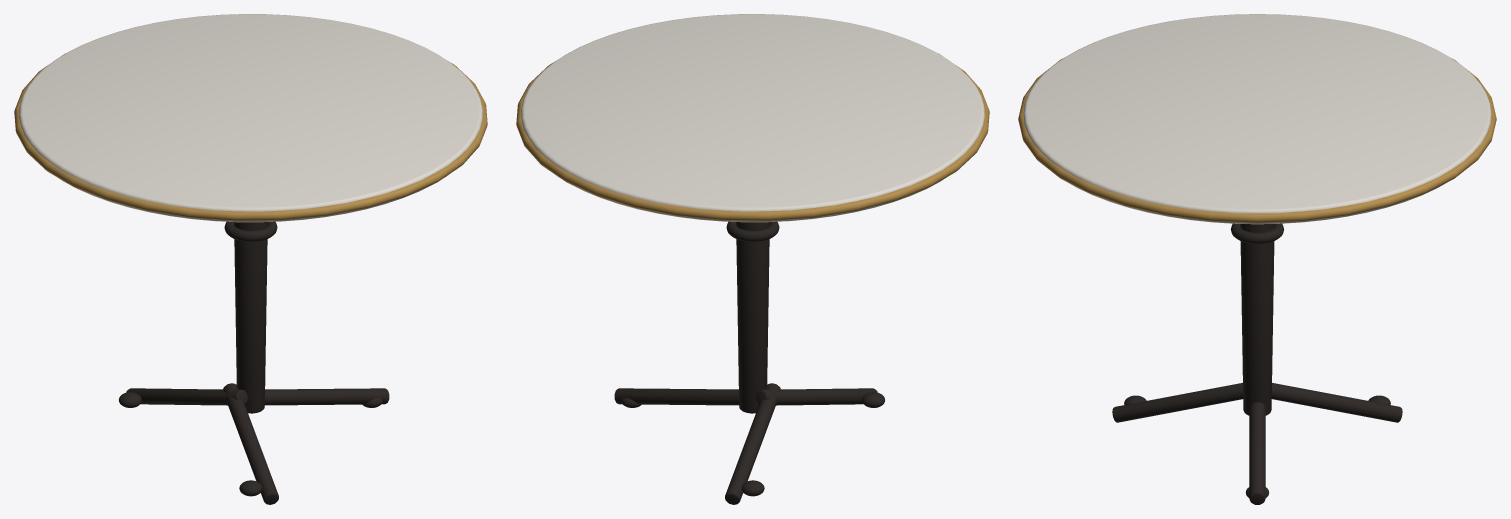
File: table.glb
3 renders of one model, left to right at view 1: azimuth 30°, elevation 25°; view 2: azimuth 150°, elevation 25°; view 3: azimuth 270°, elevation 25°, orthographic.
Visible parts, largest first — view 1: plateau, bord, pied, patte0, patte2, patte1, bague; view 2: plateau, bord, pied, patte0, patte1, patte2, bague; view 3: plateau, bord, pied, patte1, patte2, patte0, bague.
Boxes of the visible parts, x1,y1,x2,y2 form: plateau: (19,14,482,222); bord: (14,53,487,220); pied: (234,222,267,413); patte0: (264,388,389,405); patte2: (223,383,278,504); patte1: (126,388,247,405); bague: (224,221,277,241); plateau: (521,14,984,222); bord: (516,53,989,220); pied: (736,222,769,413); patte0: (614,388,739,405); patte1: (725,383,780,504); patte2: (756,388,877,405); bague: (726,221,779,241); plateau: (1023,14,1491,224); bord: (1018,58,1496,223); pied: (1240,224,1274,415); patte1: (1271,383,1402,422); patte2: (1112,383,1243,422); patte0: (1249,402,1265,504); bague: (1231,223,1283,243).
Size of the model in its own units: 1.02 by 0.7879 by 1.02.
